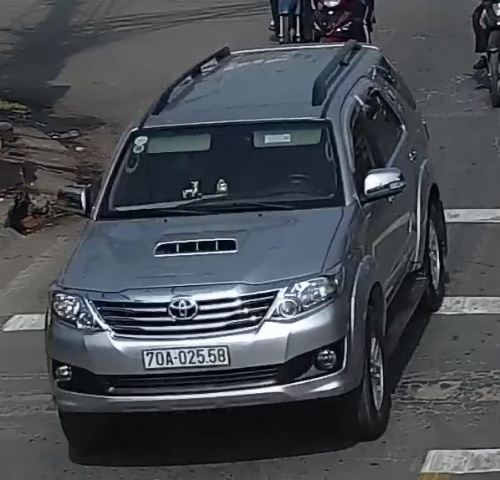vehicle plate: (138, 342, 238, 372)
